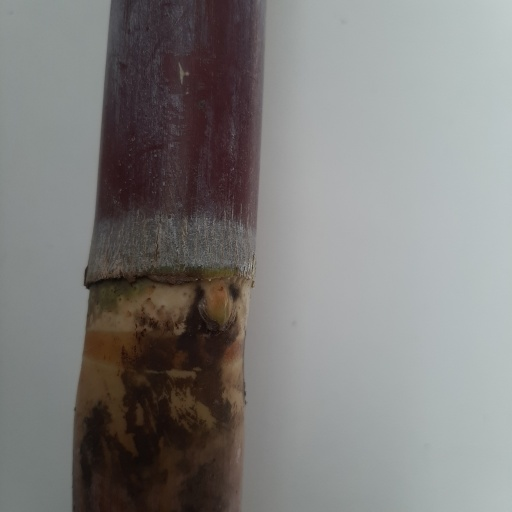Bud: (199, 280, 232, 334)
